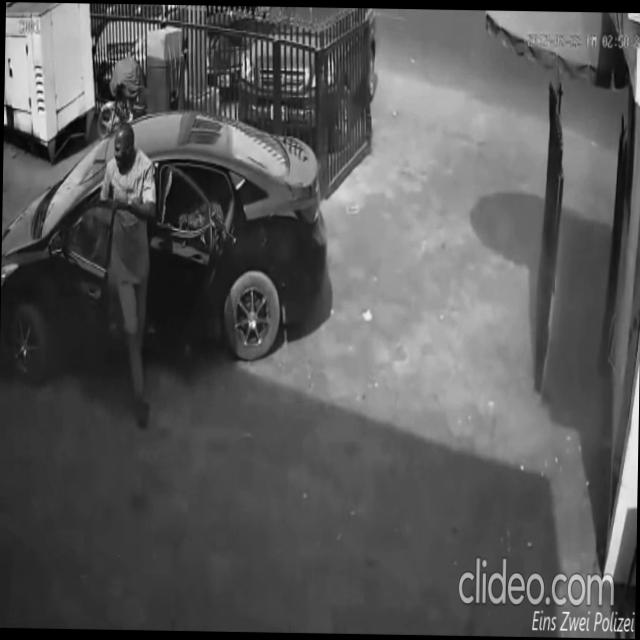gun: (203, 206, 238, 254)
person: (94, 118, 159, 429)
person with a gun: (172, 176, 240, 373)
